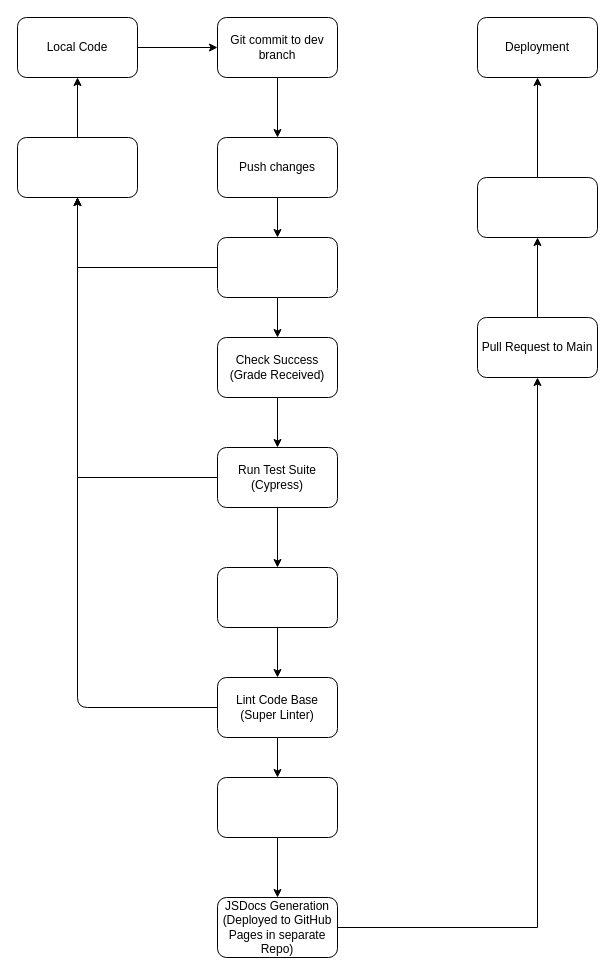
The diagram is 615 pixels wide and 975 high, and some of its shapes have lost their labels. The shapes that lost their labels are listed below. From the top down, each one's box as (x1, y1, x2, y2) in pixels, then its label:
(16, 136, 138, 198): Check Failure
(476, 176, 598, 238): Review, Check again, and Approve
(216, 236, 338, 298): Codacy Analysis (Code Quality Check)
(216, 566, 338, 628): Check Success (Test Cases Pass)
(216, 776, 338, 838): Successfully Linted
